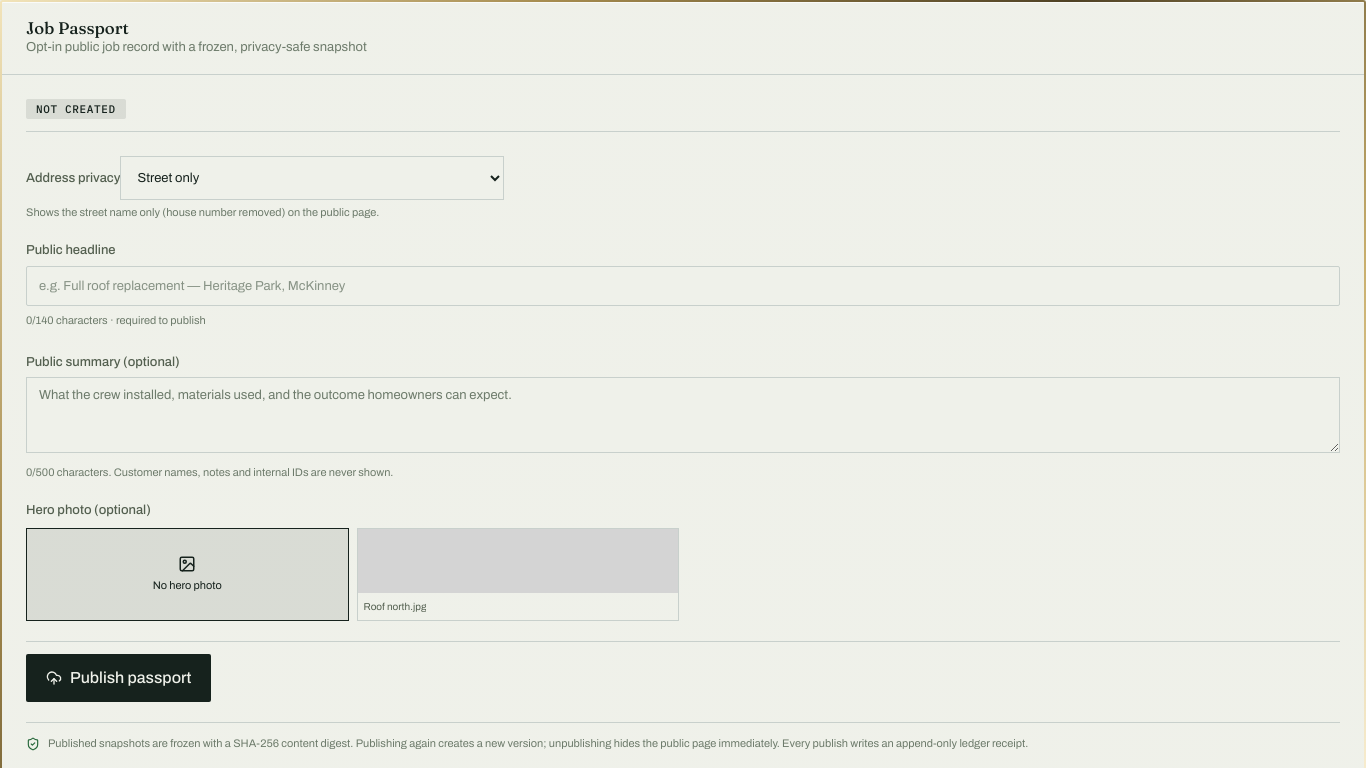
Test: PassportPanel — publishing › publishes with the default STREET_ONLY privacy and shows link + QR + digest
This screenshot has width=1366, height=768.
Expected: the dropdown labelled "Address privacy" shows "Street only", [120,156,504,200]
Type "  Full roof replacement — Heritage Park  " into the field labelled "Public headline".
click(683, 286); type("  Full roof replacement — Heritage Park  ")  # box [26,266,1340,306]
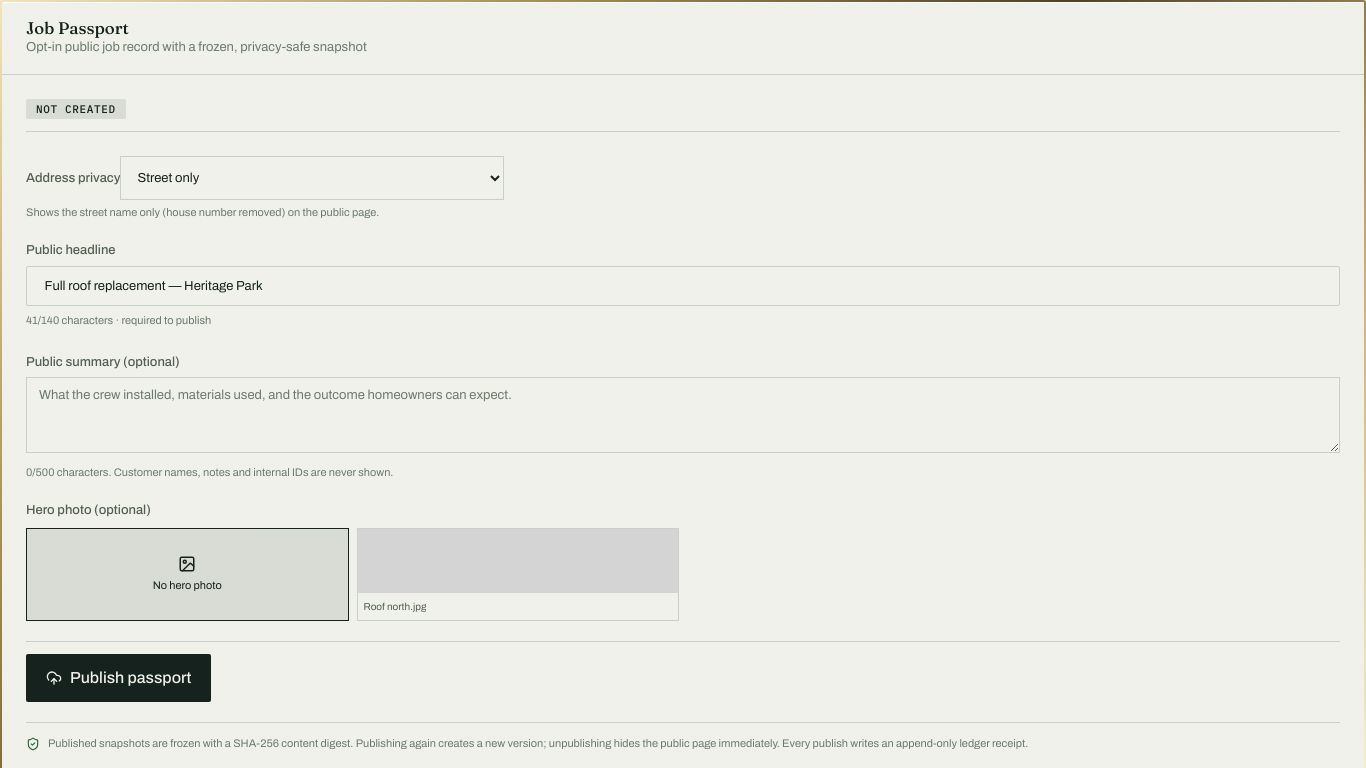
Click the button "Publish passport".
click(119, 678)  # box [26,654,211,702]
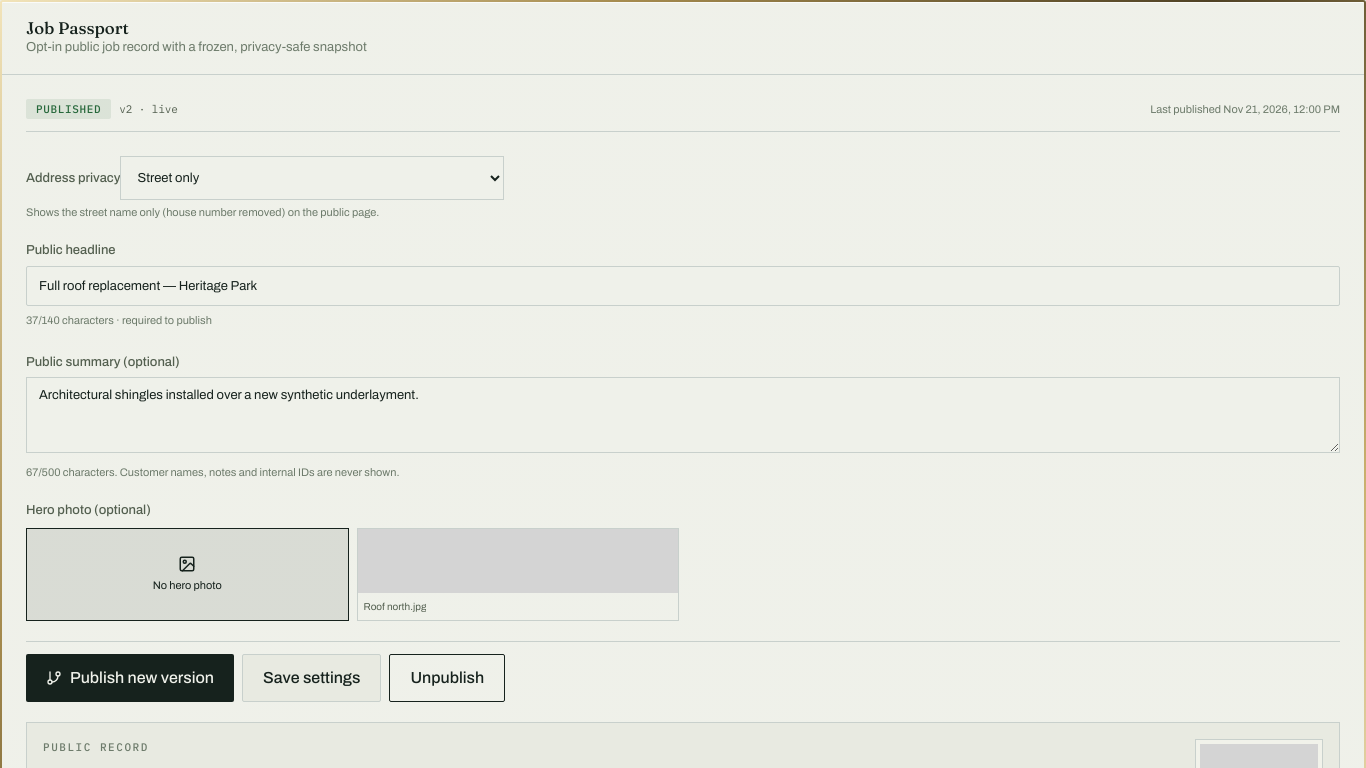
Expected: the text "Public record" is shown, [43,740,149,754]
Expected: the text "v2 · live" is shown, [119,101,178,117]
